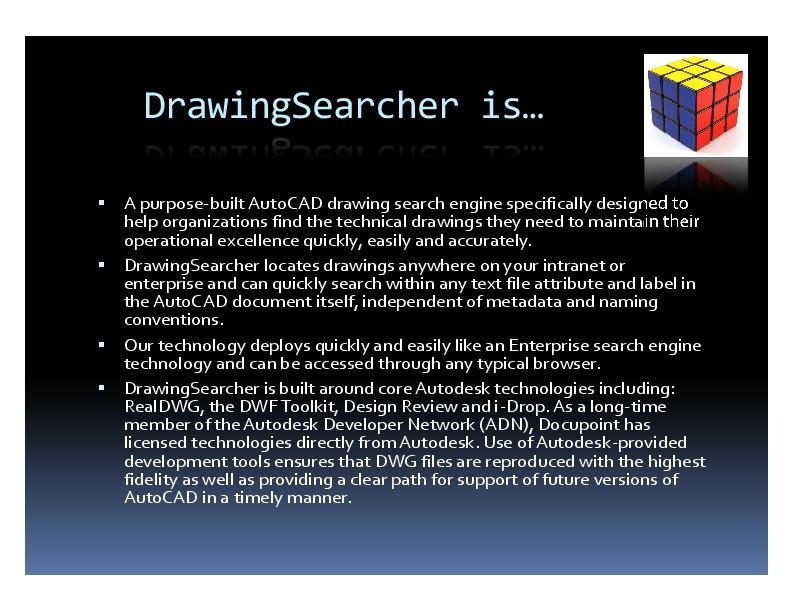paragraph: (90, 171, 739, 535)
title: (140, 82, 567, 133)
